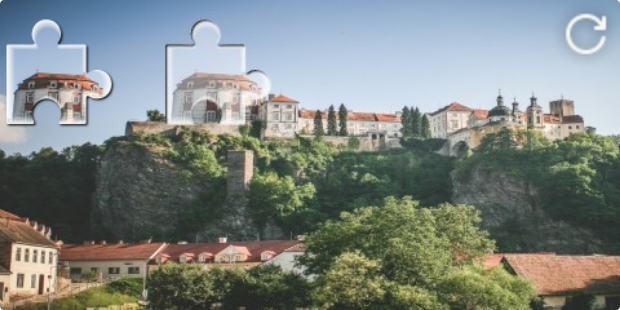target: (165, 20, 271, 123)
